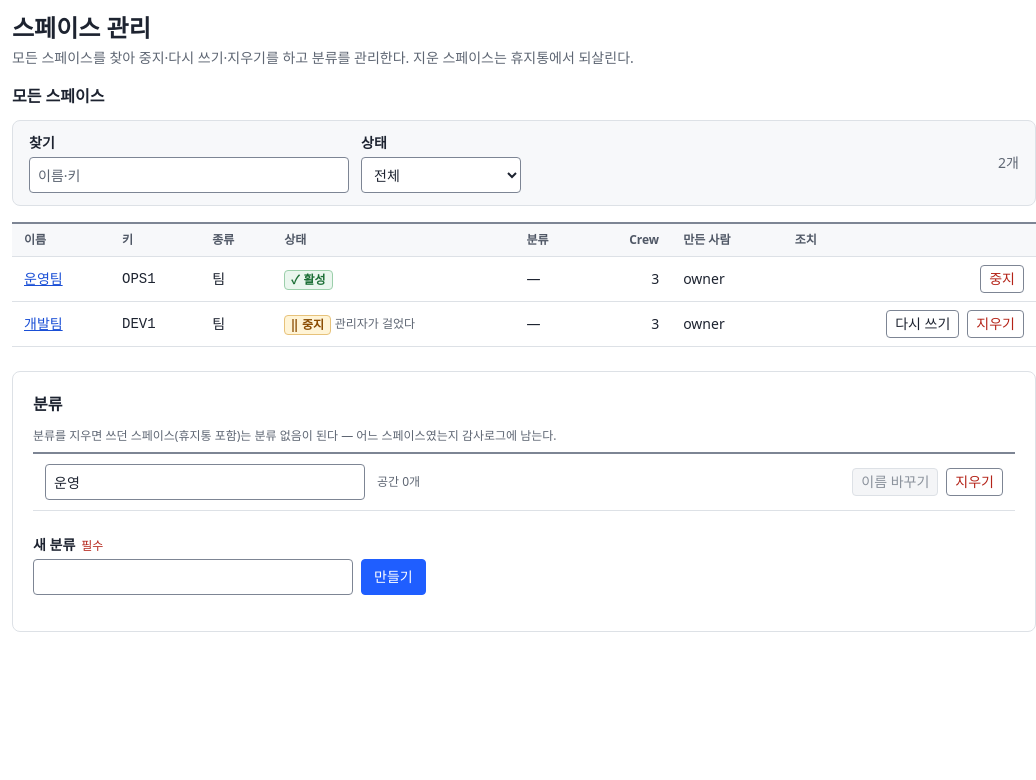
Test: AdminSpacesPage — 모든 스페이스 › **찾기와 상태는 서버에 보낸다** — 화면에서 거르지 않는다(상한 밖을 찾으려면)
expect the link "운영팀" is shown: met, box [24,269,63,288]
Type "개발" into the search field at (189, 175), box [29,157,349,193]
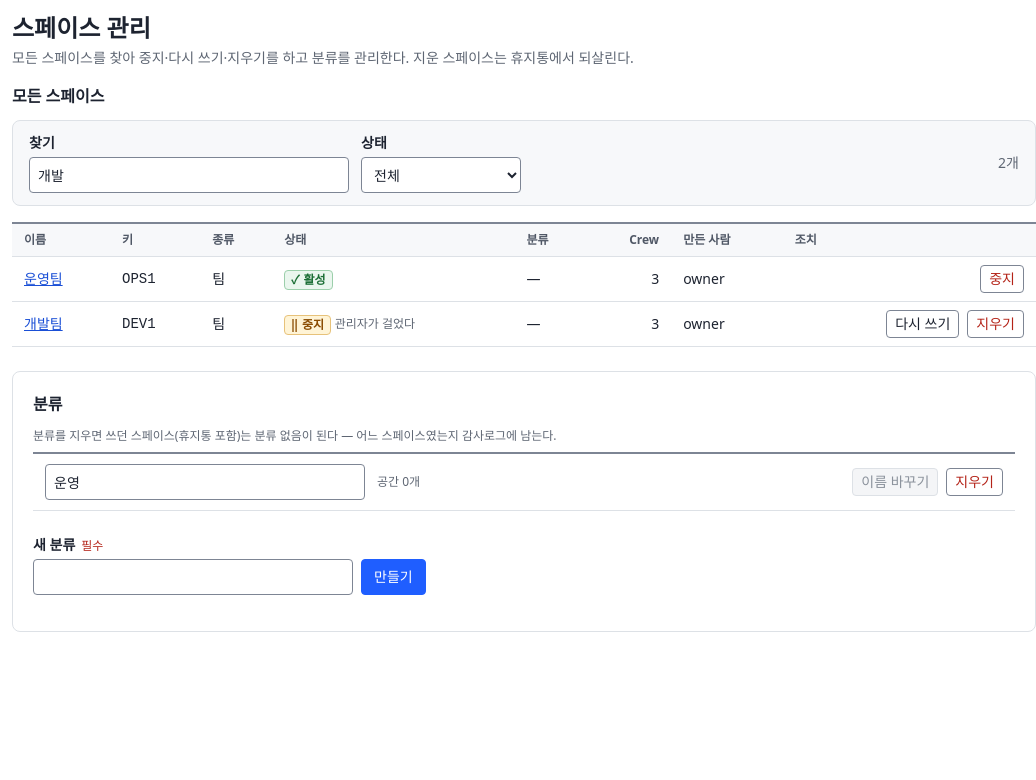
Select "중지" in the dropdown labelled "상태" at (441, 175), box [361,157,521,193]
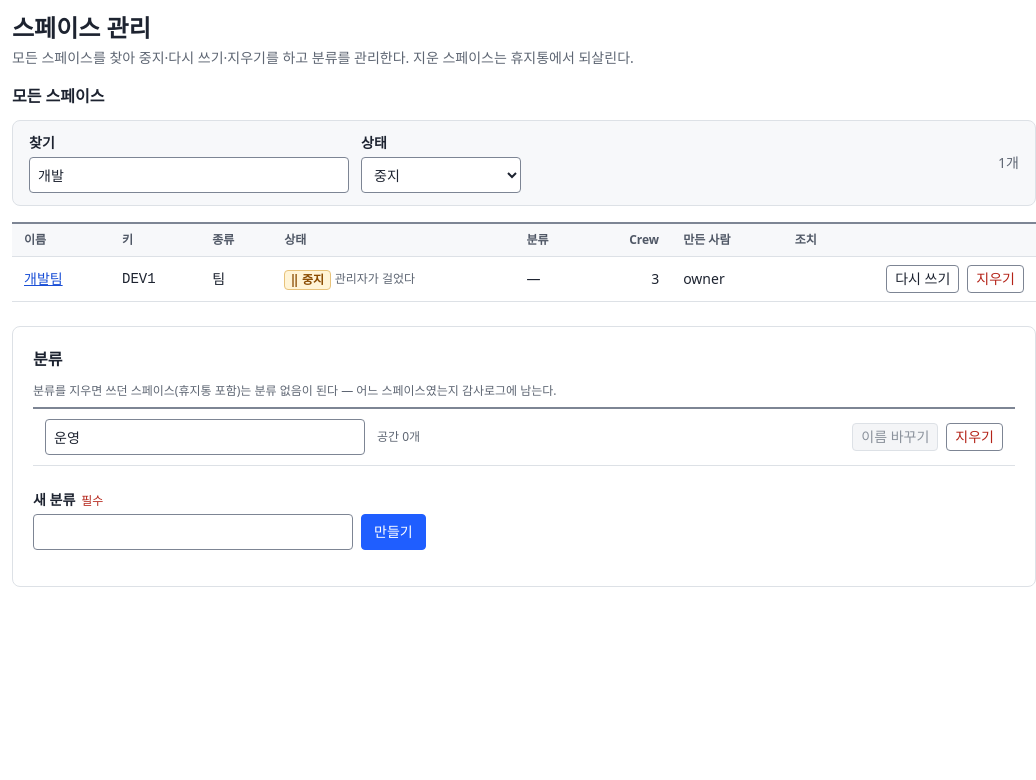
expect the link "운영팀" is gone: met
